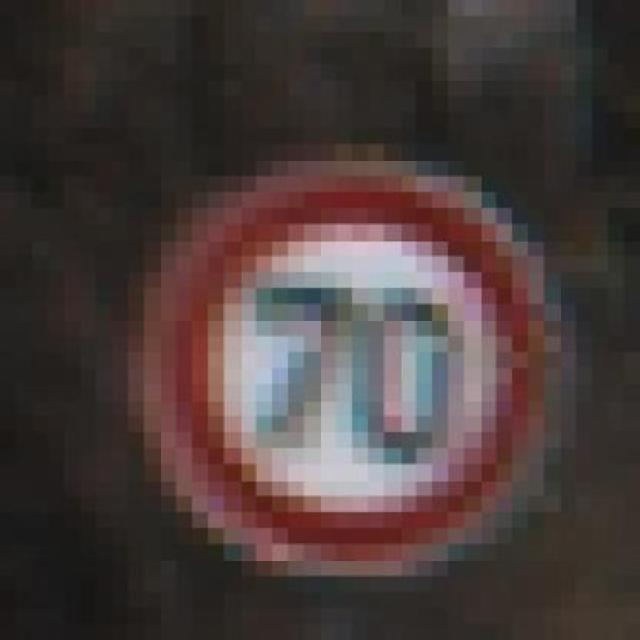forb_speed_over_70: (161, 168, 542, 560)
